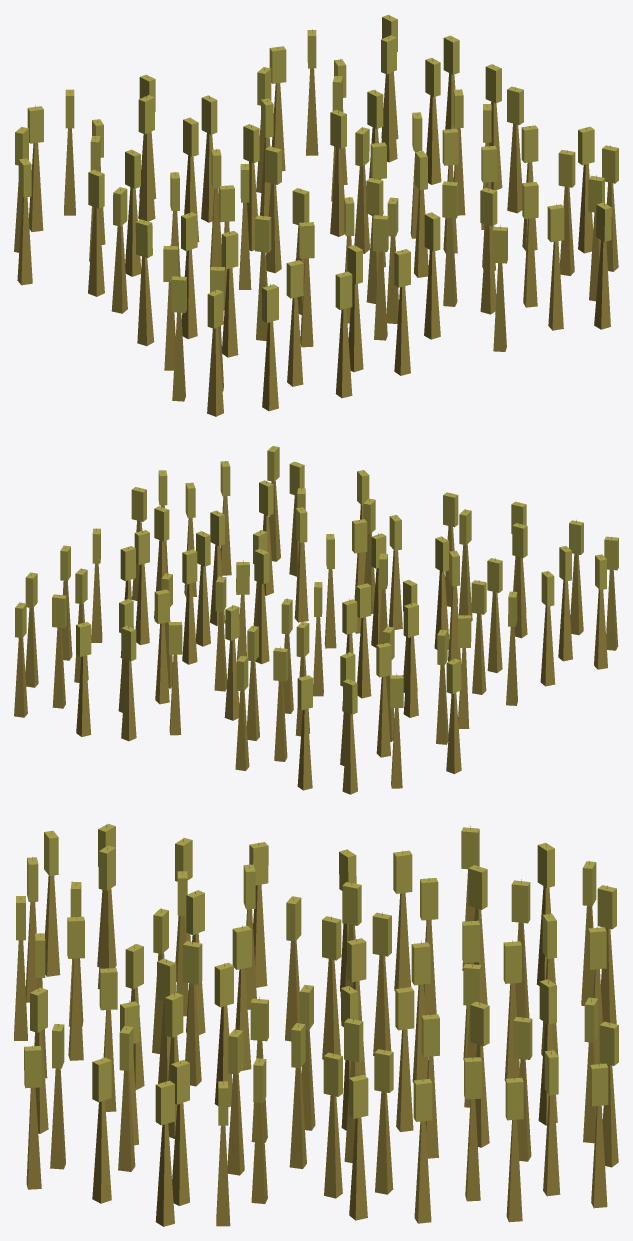
Rendered from Wheat.fbx.
3 renders of one model, top to bottom at view 1: azimuth 30°, elevation 25°; view 2: azimuth 150°, elevation 25°; view 3: azimuth 270°, elevation 25°, orthographic. The views are drawn at different scales.
Visible parts, largest first — view 1: Wheat; view 2: Wheat; view 3: Wheat.
Part boxes in pixels (x1,y1,x2,y2): Wheat: (14, 14, 618, 416); Wheat: (14, 446, 618, 794); Wheat: (14, 823, 618, 1226).
Bounding box in the file's own units: 189 × 48.7 × 183.
